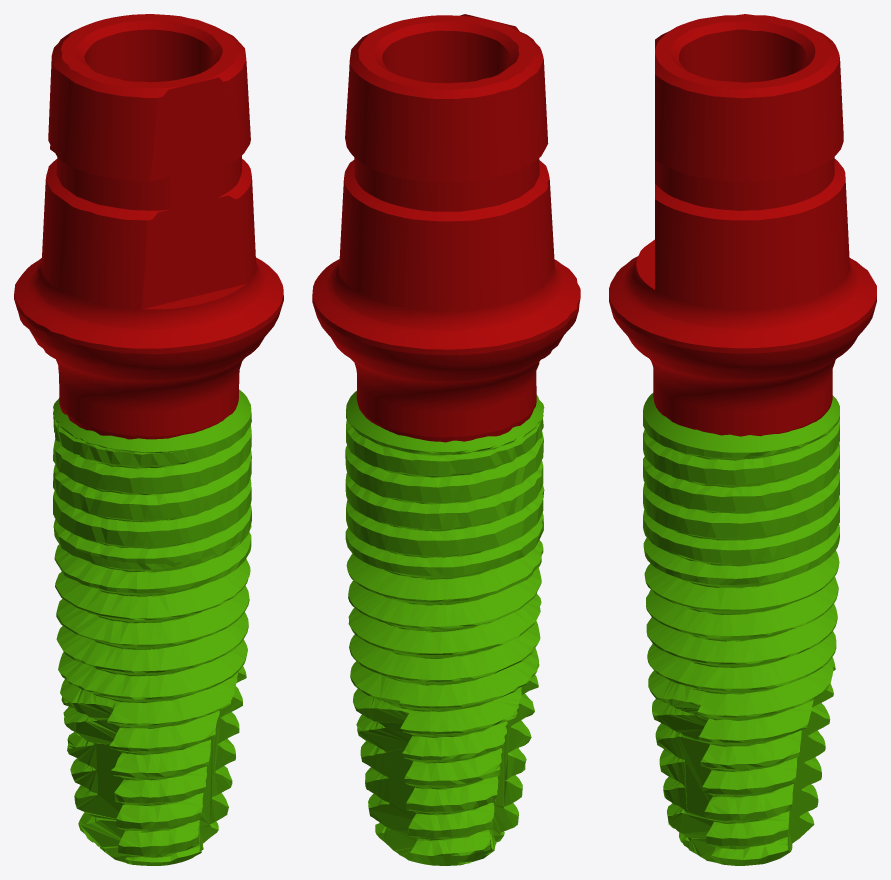
File: implant_screw.glb
3 renders of one model, left to right at view 1: azimuth 30°, elevation 25°; view 2: azimuth 150°, elevation 25°; view 3: azimuth 270°, elevation 25°, orthographic.
Visible parts, largest first — view 1: polySurface31; view 2: polySurface31; view 3: polySurface31.
Part boxes in pixels (x1=…): polySurface31: x1=14, y1=14, x2=283, y2=865; polySurface31: x1=312, y1=14, x2=580, y2=865; polySurface31: x1=609, y1=14, x2=876, y2=865.
Bounding box in the file's own units: 0.0213 × 0.0694 × 0.0213.
